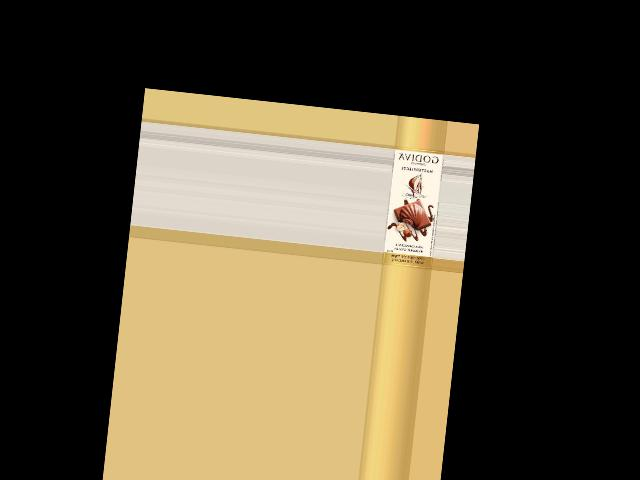chocolate: (381, 145, 443, 269)
